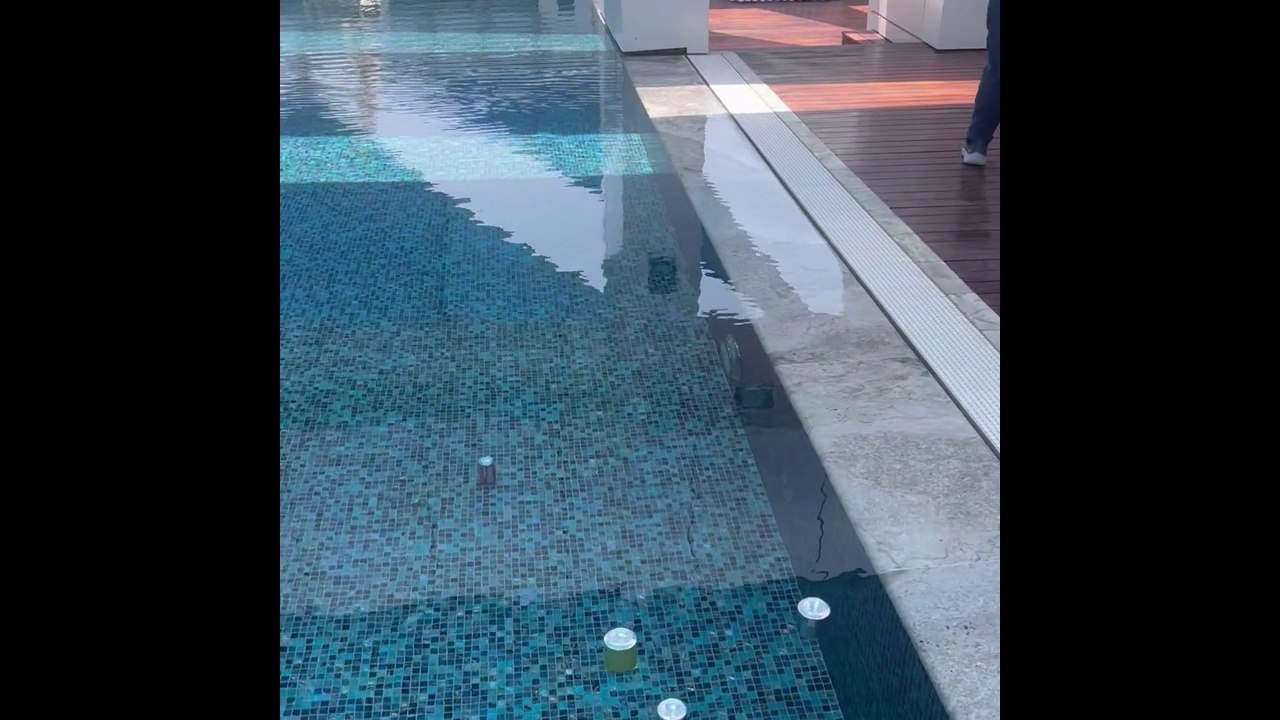debris: (598, 626, 640, 678), (790, 591, 832, 642), (475, 452, 502, 490), (654, 694, 688, 720)
